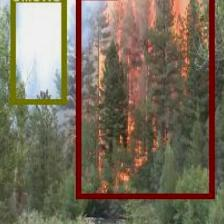fire: (76, 0, 213, 197)
smoke: (10, 0, 66, 103)
